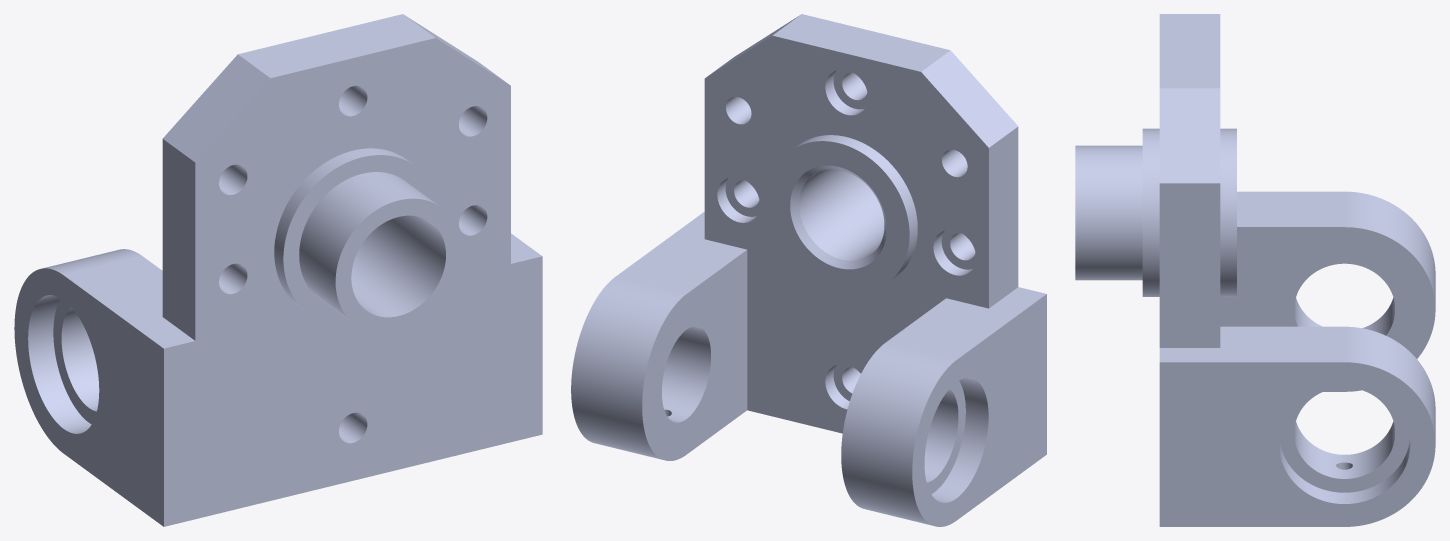
The picture shows the model from 3 angles, left to right: view 1: azimuth 30°, elevation 25°; view 2: azimuth 150°, elevation 25°; view 3: azimuth 270°, elevation 25°; orthographic projection. The views are drawn at different scales.
Parts seen in each view (by area): view 1: 倒角1; view 2: 倒角1; view 3: 倒角1.
Boxes of the visible parts, left/top/right/bottom form: 倒角1: left=14, top=14, right=542, bottom=526; 倒角1: left=571, top=14, right=1046, bottom=526; 倒角1: left=1075, top=14, right=1435, bottom=526.
Size of the model in its own units: 4.72 by 5.04 by 4.21.
